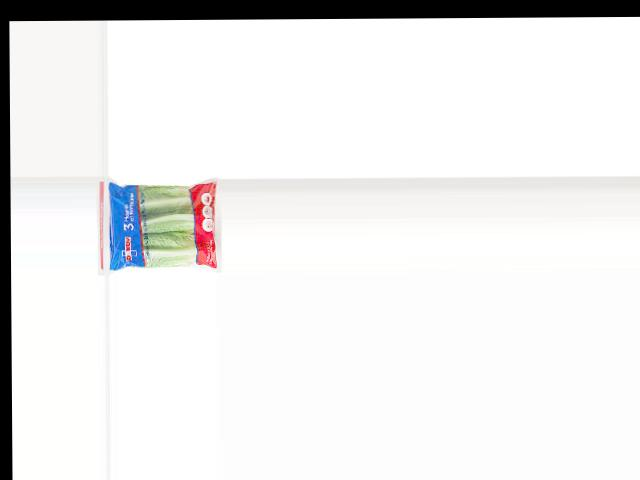lettuce: (106, 179, 221, 271)
